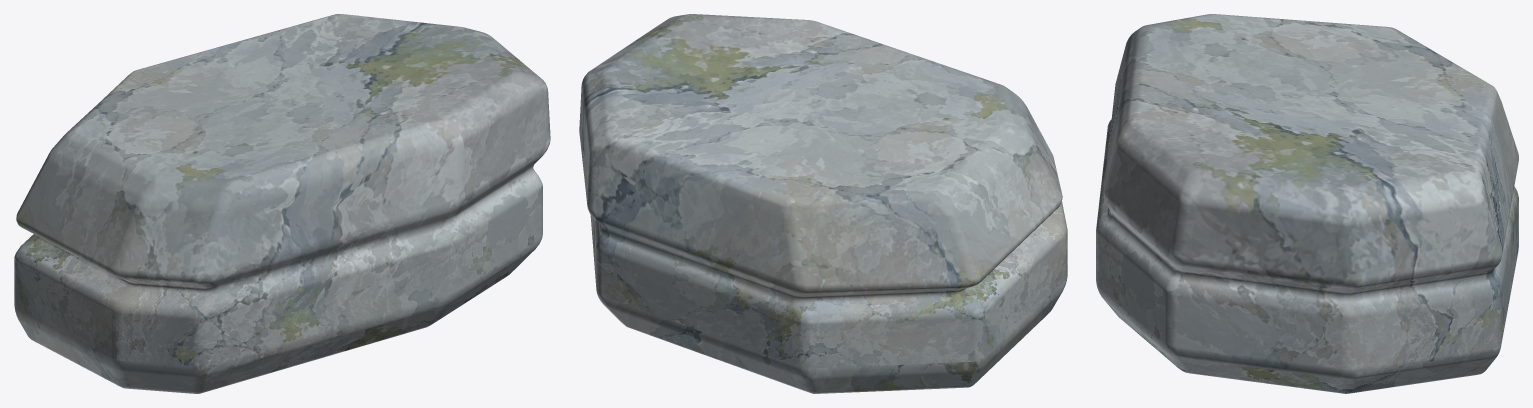
File: SM_FracturedForestRock_03.fbx
The picture shows the model from 3 angles, left to right: view 1: azimuth 30°, elevation 25°; view 2: azimuth 150°, elevation 25°; view 3: azimuth 270°, elevation 25°; orthographic projection. The views are drawn at different scales.
Visible parts, largest first — view 1: SM_FracturedForestRock_03; view 2: SM_FracturedForestRock_03; view 3: SM_FracturedForestRock_03.
Part boxes in pixels (box(x1,y1,x2,y2)): SM_FracturedForestRock_03: box(14, 14, 550, 393); SM_FracturedForestRock_03: box(579, 14, 1067, 393); SM_FracturedForestRock_03: box(1096, 14, 1518, 393).
Bounding box in the file's own units: 3.16 × 2.38 × 1.59.
